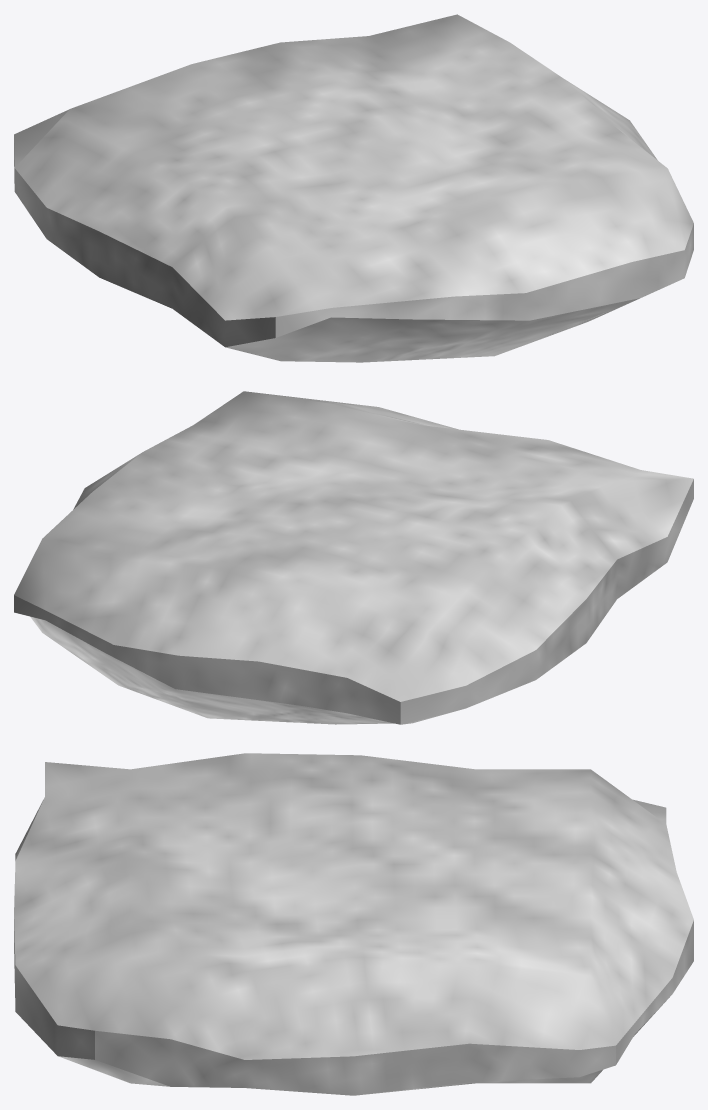
Rendered from Food.FBX.
3 views of the same model, one above another, from view 1: azimuth 30°, elevation 25°; view 2: azimuth 150°, elevation 25°; view 3: azimuth 270°, elevation 25° (orthographic). The views are drawn at different scales.
Parts seen in each view (by area): view 1: Box007; view 2: Box007; view 3: Box007.
Boxes of the visible parts, left/top/right/bottom form: Box007: left=14, top=14, right=693, bottom=362; Box007: left=14, top=391, right=693, bottom=724; Box007: left=14, top=753, right=693, bottom=1095.
Size of the model in its own units: 46.15 by 13.43 by 47.13.
6 materials, 6 textured.
